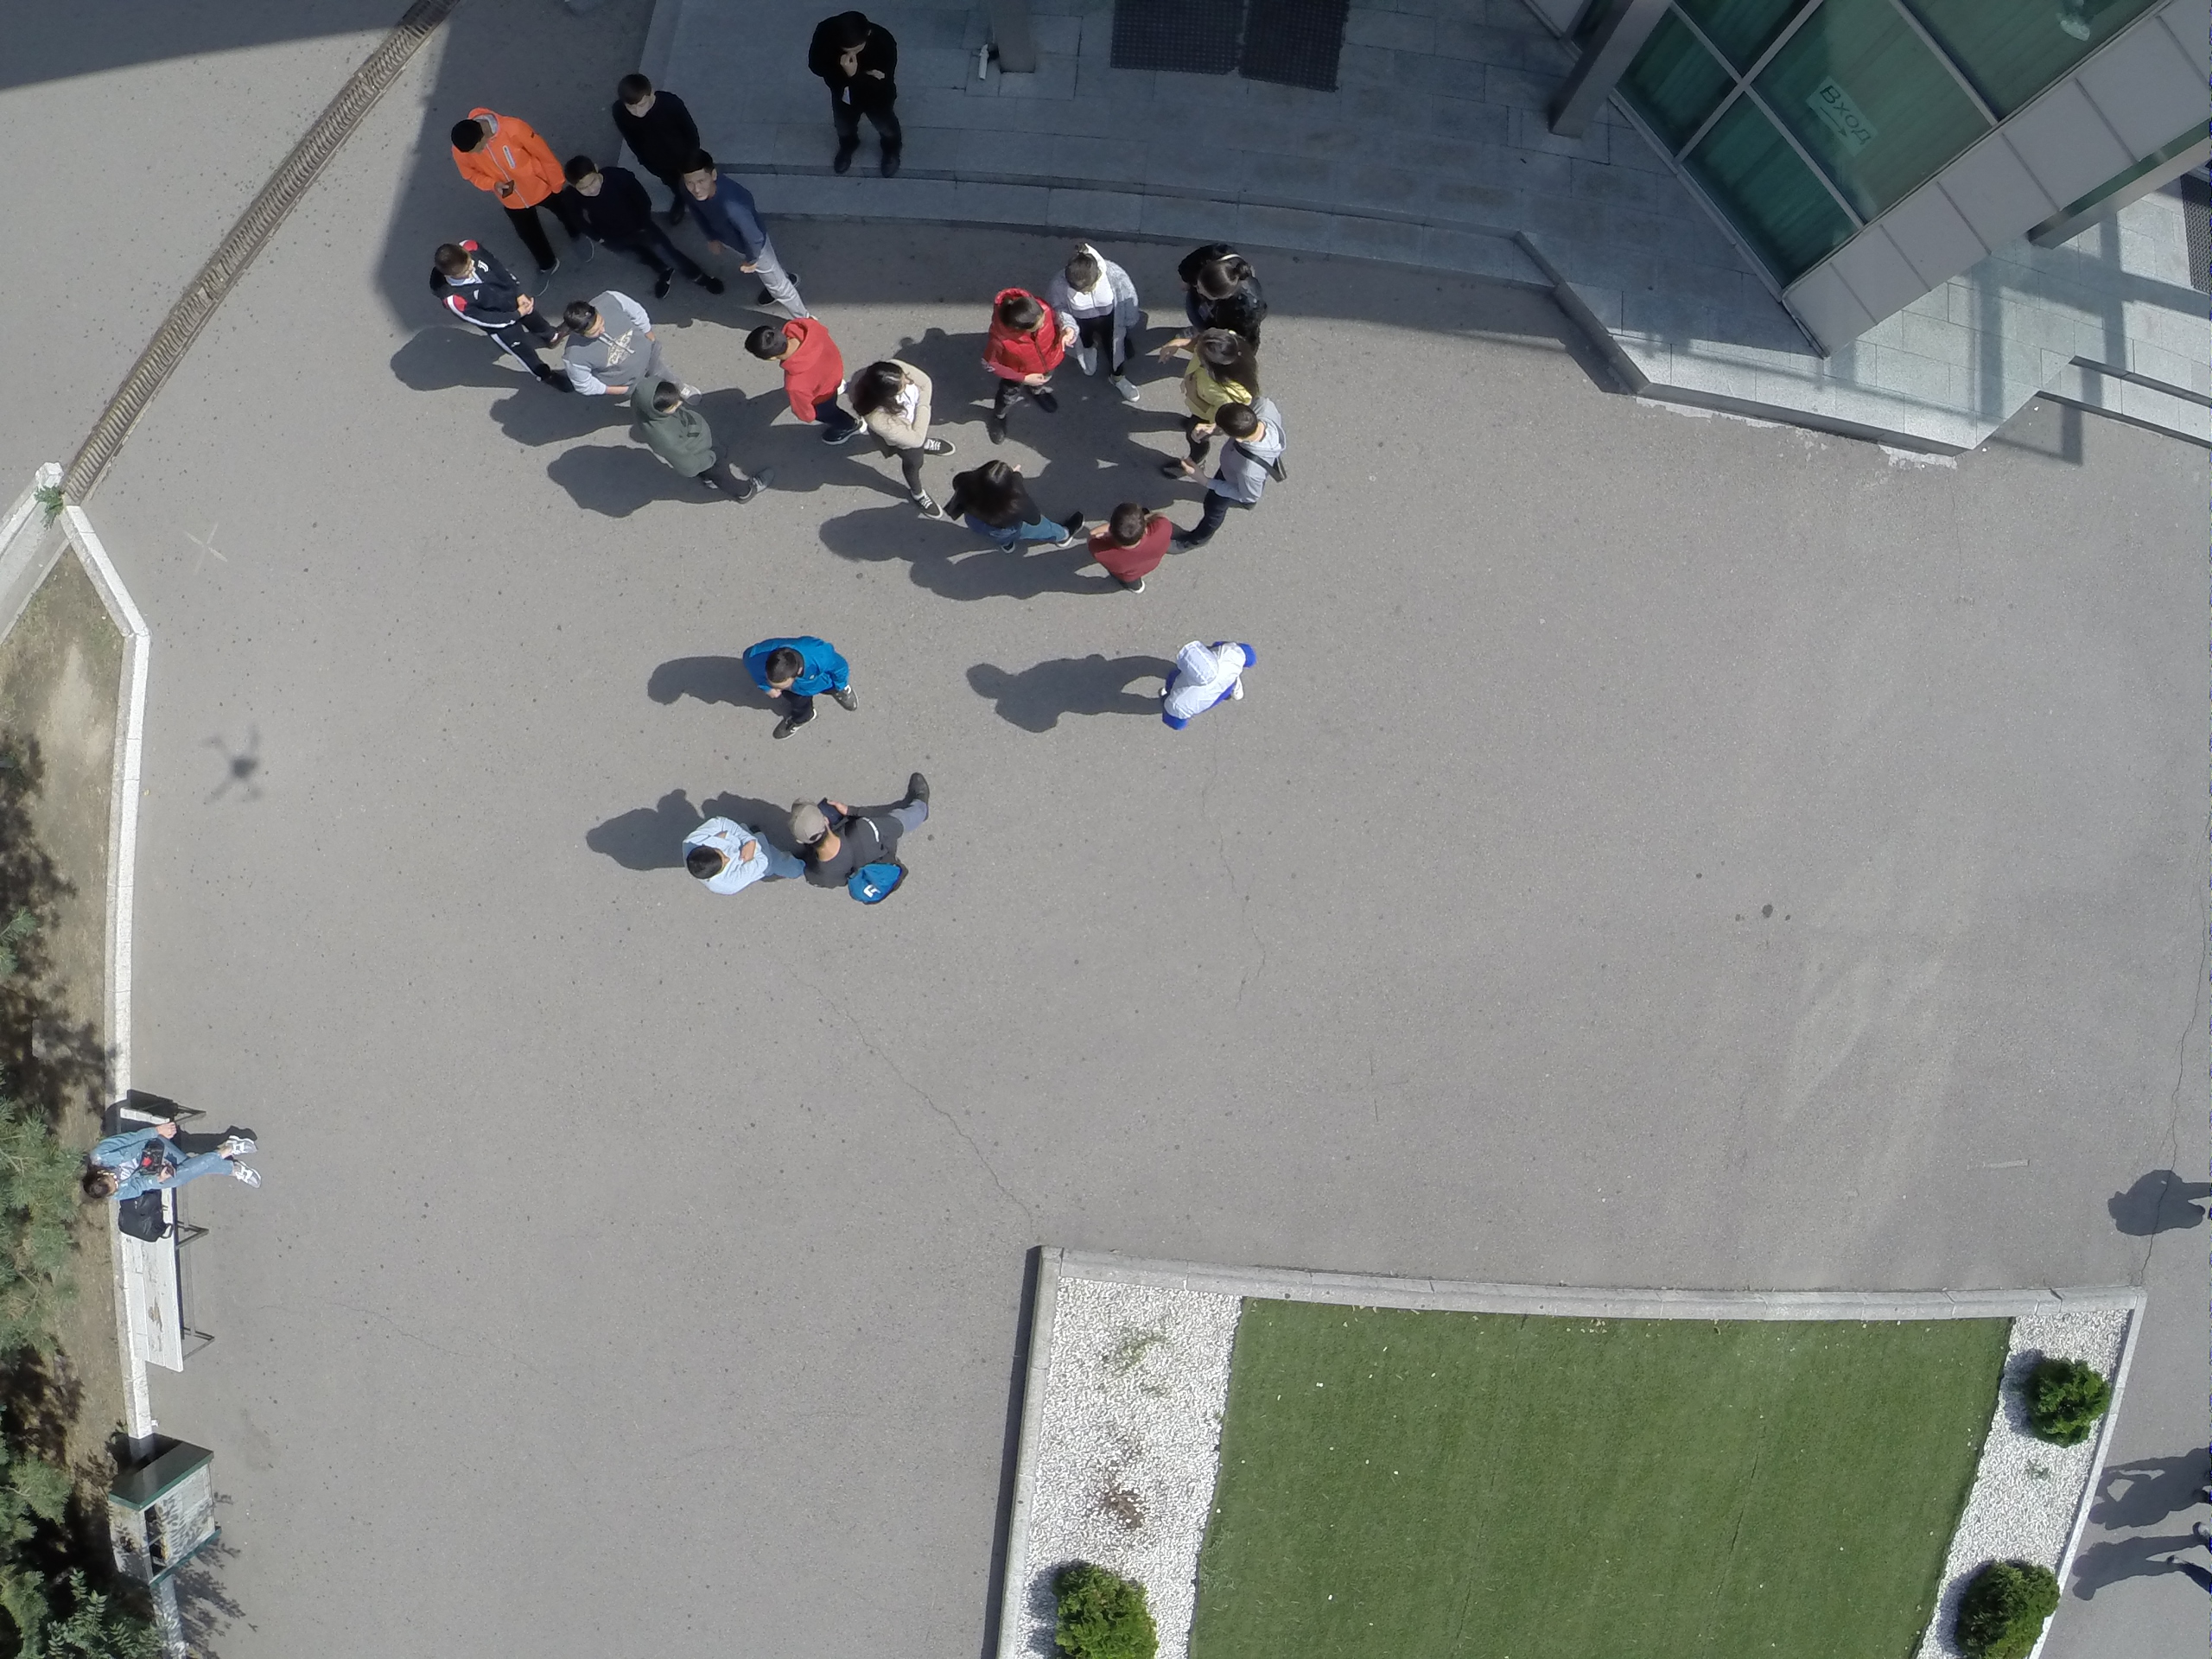person: (671, 150, 813, 308), (423, 229, 559, 390), (798, 766, 938, 915), (559, 145, 691, 298), (801, 10, 915, 181), (742, 315, 867, 458), (628, 382, 758, 514), (448, 97, 564, 232), (69, 1122, 267, 1200), (742, 631, 864, 742), (669, 801, 793, 908), (1147, 631, 1263, 735), (552, 283, 648, 397), (607, 74, 689, 176)
